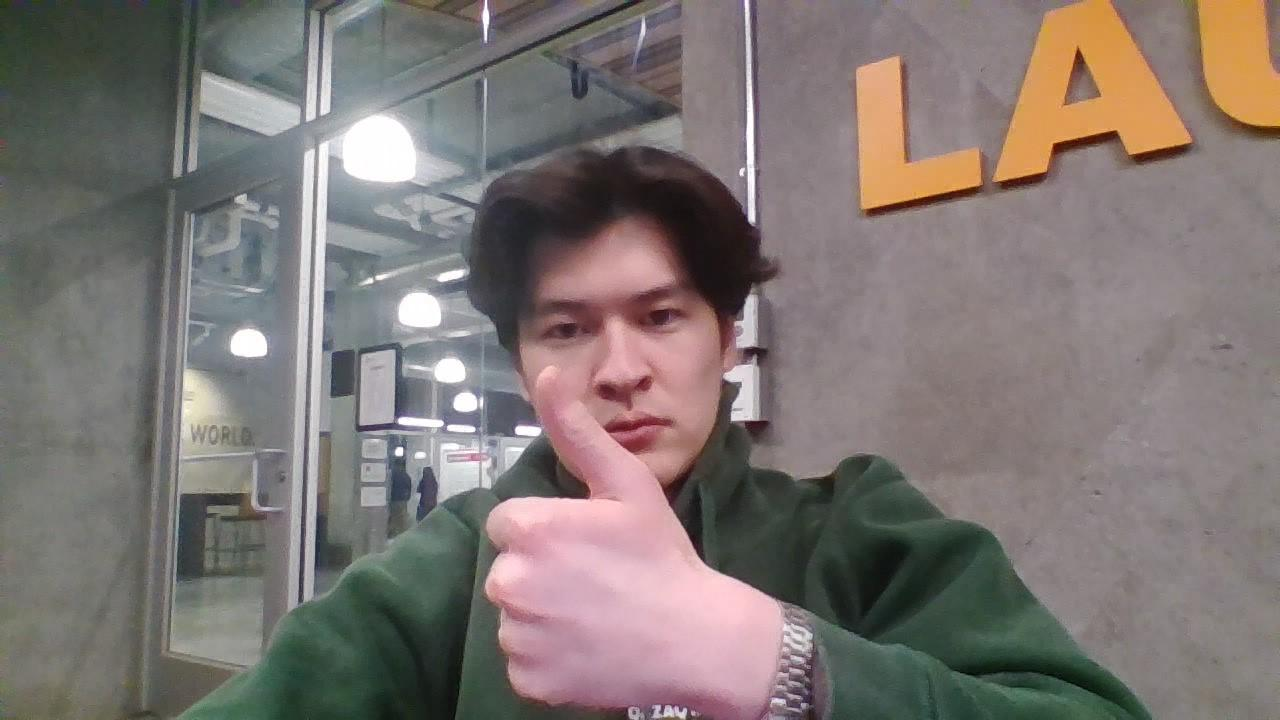thumbsUp: (488, 360, 691, 710)
